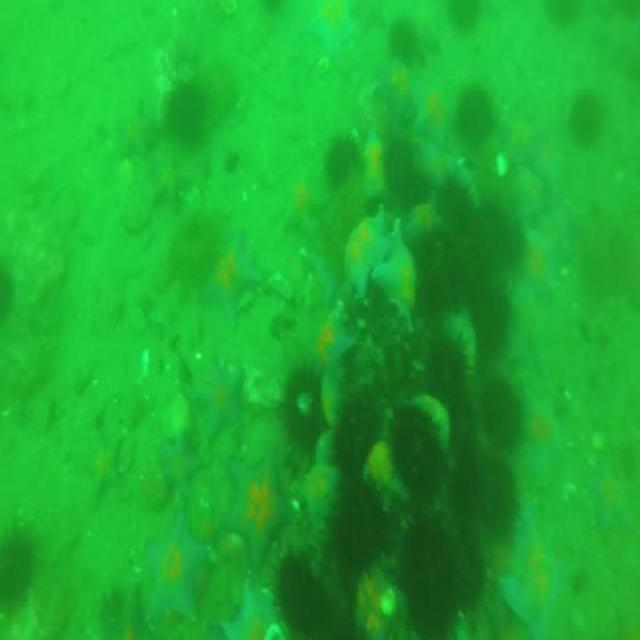echinus: (400, 510, 466, 630), (330, 472, 386, 578), (271, 550, 335, 640), (393, 408, 452, 502), (336, 386, 386, 492), (280, 365, 329, 457), (380, 141, 432, 215), (423, 232, 472, 308), (470, 274, 514, 356), (424, 334, 471, 406), (0, 529, 36, 617), (478, 208, 523, 272), (448, 406, 477, 503), (482, 463, 519, 537), (481, 378, 523, 442), (166, 80, 203, 146), (433, 185, 476, 237), (454, 84, 490, 144), (328, 128, 364, 188), (462, 528, 484, 618), (566, 88, 603, 140), (390, 18, 420, 62), (445, 0, 482, 32), (546, 0, 572, 19)
scallop: (381, 588, 396, 616), (495, 153, 509, 180), (316, 57, 330, 73), (219, 2, 237, 14)
starfish: (221, 440, 303, 576), (497, 505, 563, 640), (141, 509, 209, 626), (196, 226, 258, 326), (373, 218, 417, 340), (188, 354, 246, 441), (341, 215, 395, 299), (593, 448, 640, 540), (220, 577, 287, 640), (530, 387, 570, 488), (534, 190, 585, 259), (305, 1, 358, 64), (155, 430, 201, 499), (523, 224, 560, 299), (114, 98, 160, 158), (148, 147, 194, 207), (414, 74, 449, 152), (85, 428, 123, 499), (307, 238, 343, 306), (330, 329, 361, 398), (533, 131, 570, 187)
